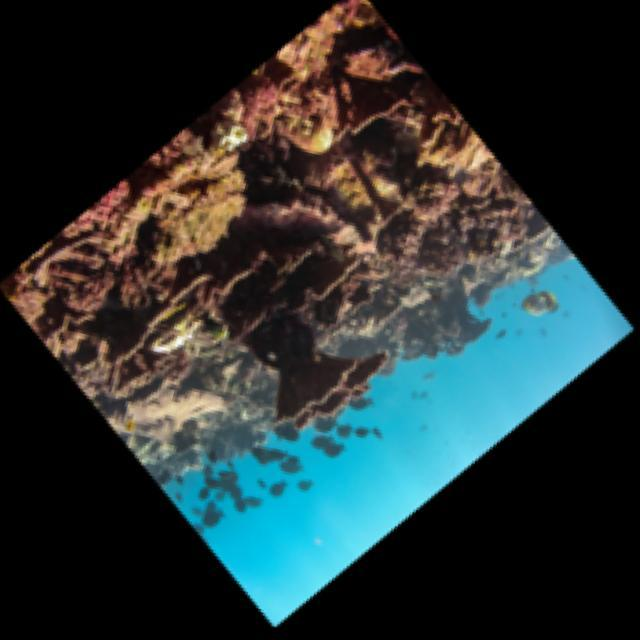Dead Coral: (143, 197, 429, 488), (20, 147, 289, 410), (198, 37, 402, 233)
